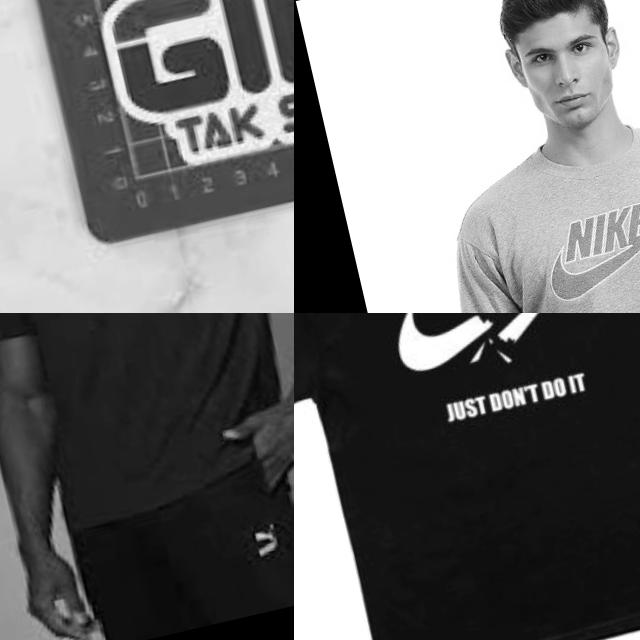FILA_fake: (65, 0, 294, 192)
NIKE_fake: (373, 313, 632, 450)
NIKE_original: (517, 174, 640, 313)
